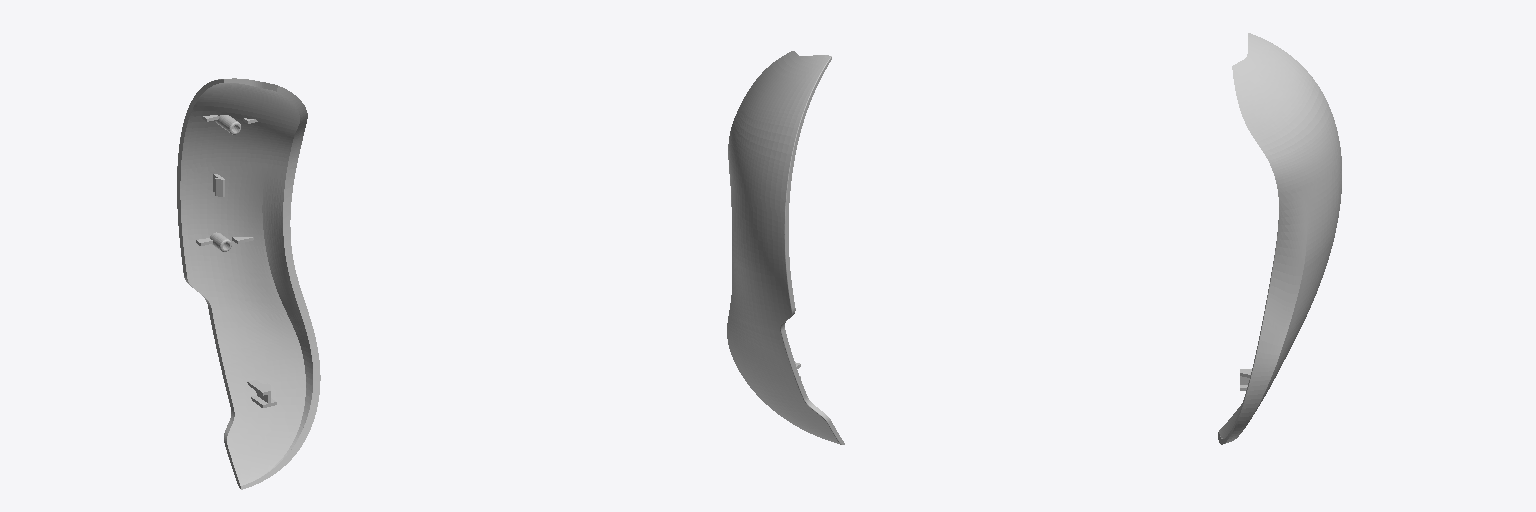
The model's file is mouse_(4).obj.
The picture shows the model from 3 angles: view 1: azimuth 30°, elevation 25°; view 2: azimuth 150°, elevation 25°; view 3: azimuth 270°, elevation 25°; orthographic projection.
Visible parts, largest first — view 1: Cap_Right; view 2: Cap_Right; view 3: Cap_Right.
Part boxes in pixels (bbox=[...]): Cap_Right: bbox=[177, 78, 320, 489]; Cap_Right: bbox=[727, 51, 844, 444]; Cap_Right: bbox=[1218, 33, 1341, 444].
Bounding box in the file's own units: 3.21 × 12.76 × 3.6.